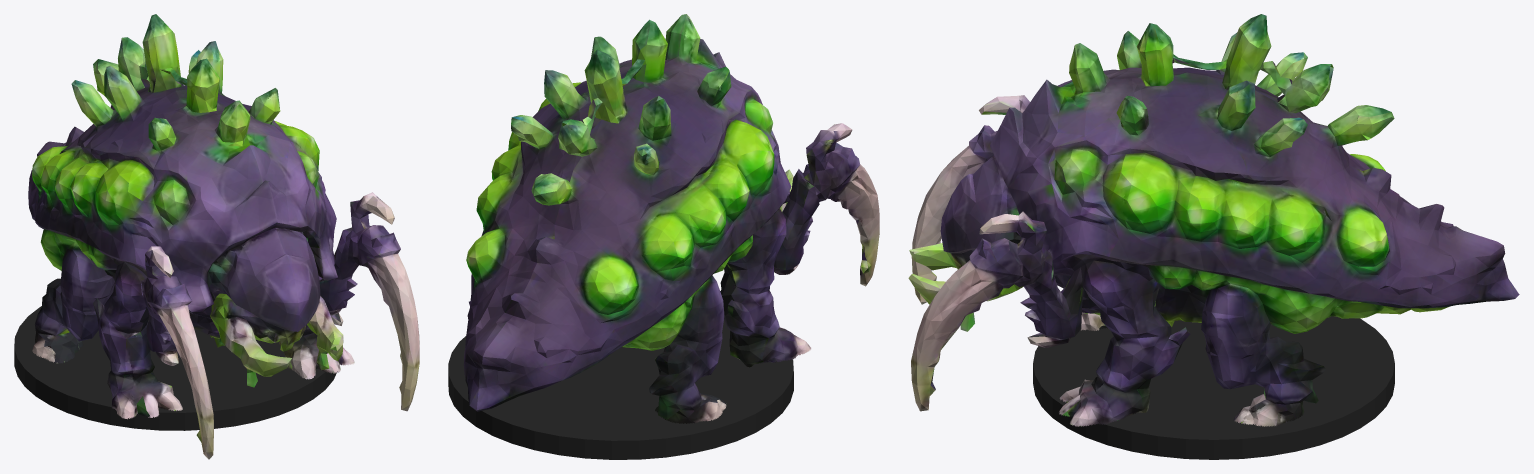
The model's file is vile.glb.
3 renders of one model, left to right at view 1: azimuth 30°, elevation 25°; view 2: azimuth 150°, elevation 25°; view 3: azimuth 270°, elevation 25°, orthographic. The views are drawn at different scales.
Parts seen in each view (by area): view 1: figure, base; view 2: figure, base; view 3: figure, base.
Part boxes in pixels (<box>): figure: <box>28,14,419,459</box>; base: <box>14,306,336,430</box>; figure: <box>463,14,879,423</box>; base: <box>448,319,793,459</box>; figure: <box>908,14,1519,426</box>; base: <box>1033,316,1394,459</box>.
Bounding box in the file's own units: 1.97 × 2.22 × 3.32.
Materials: 2 (1 with a texture image).
